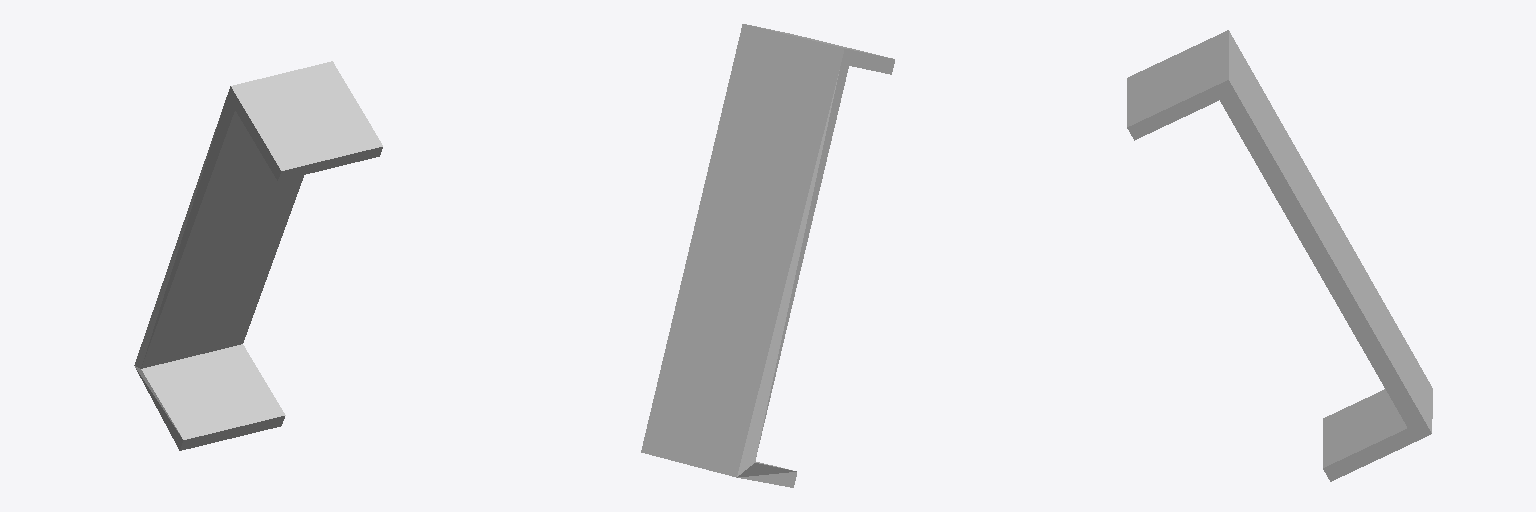
The model's file is original-71.obj.
The picture shows the model from 3 angles: view 1: azimuth 30°, elevation 25°; view 2: azimuth 150°, elevation 25°; view 3: azimuth 270°, elevation 25°; orthographic projection.
Parts seen in each view (by area): view 1: mesh74/mesh74-geometry#mesh74-geometry; view 2: mesh74/mesh74-geometry#mesh74-geometry; view 3: mesh74/mesh74-geometry#mesh74-geometry.
Boxes of the visible parts, box(x1,y1,x2,y2) form: mesh74/mesh74-geometry#mesh74-geometry: box(134, 61, 382, 450); mesh74/mesh74-geometry#mesh74-geometry: box(641, 24, 894, 487); mesh74/mesh74-geometry#mesh74-geometry: box(1127, 30, 1432, 481).
Size of the model in its own units: 0.0435 by 0.164 by 0.113.